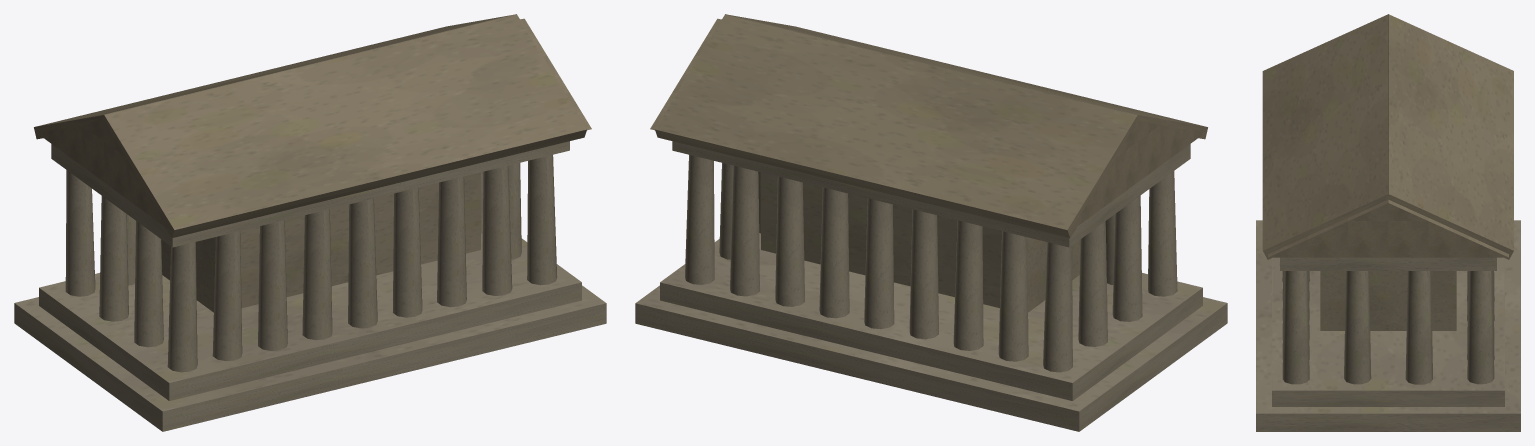
File: greek-temple.glb
3 views of the same model, side by side, from view 1: azimuth 30°, elevation 25°; view 2: azimuth 150°, elevation 25°; view 3: azimuth 270°, elevation 25° (orthographic). The views are drawn at different scales.
Bounding box in the file's own units: 11.4 × 6.36 × 6.6.
Materials: 3 (3 with a texture image).
